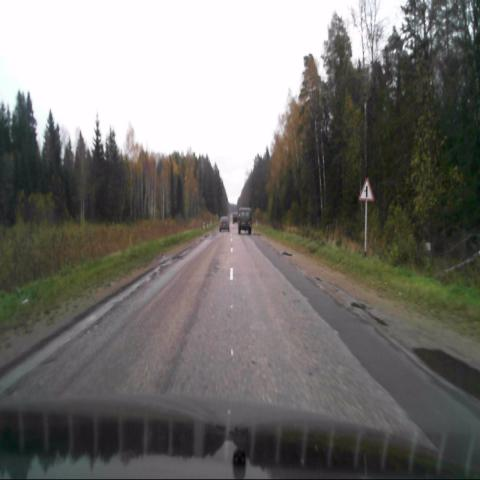2_3_3: (359, 177, 373, 202)
